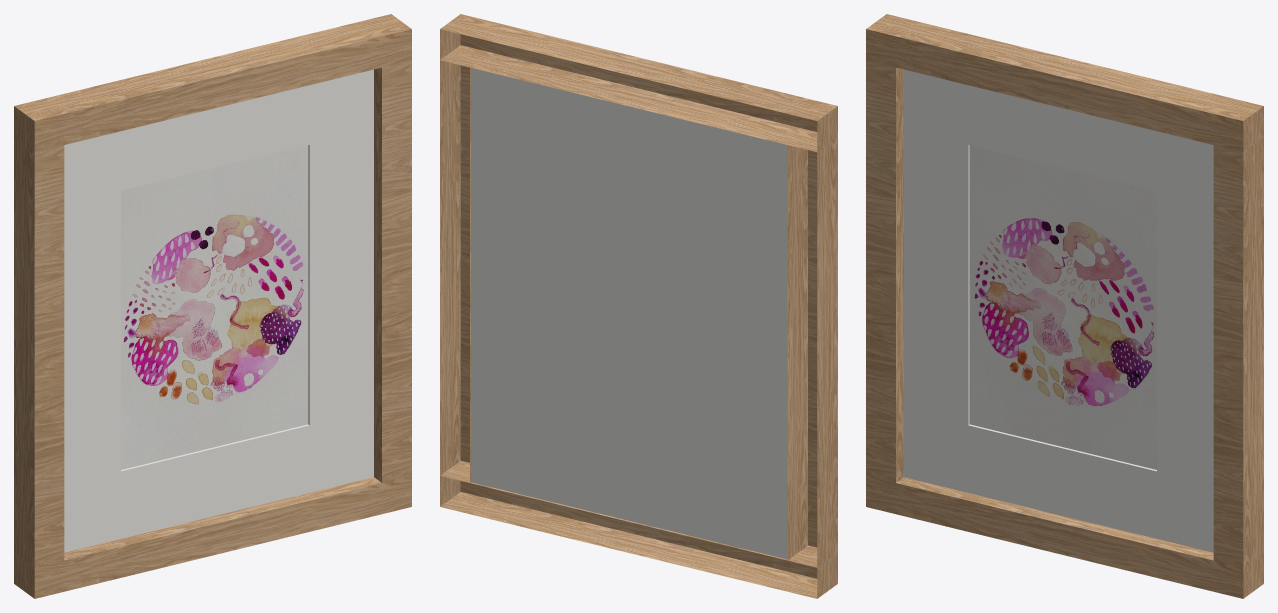
The model's file is soft-pinks.glb.
The picture shows the model from 3 angles, left to right: view 1: azimuth 30°, elevation 25°; view 2: azimuth 150°, elevation 25°; view 3: azimuth 330°, elevation 25°; orthographic projection.
Visible parts, largest first — view 1: framed-art; view 2: framed-art; view 3: framed-art.
Boxes of the visible parts, x1=… form: framed-art: x1=14, y1=14, x2=411, y2=598; framed-art: x1=440, y1=14, x2=837, y2=598; framed-art: x1=866, y1=14, x2=1263, y2=598.
Size of the model in its own units: 0.2413 by 0.2921 by 0.0229.
3 materials, 3 textured.
